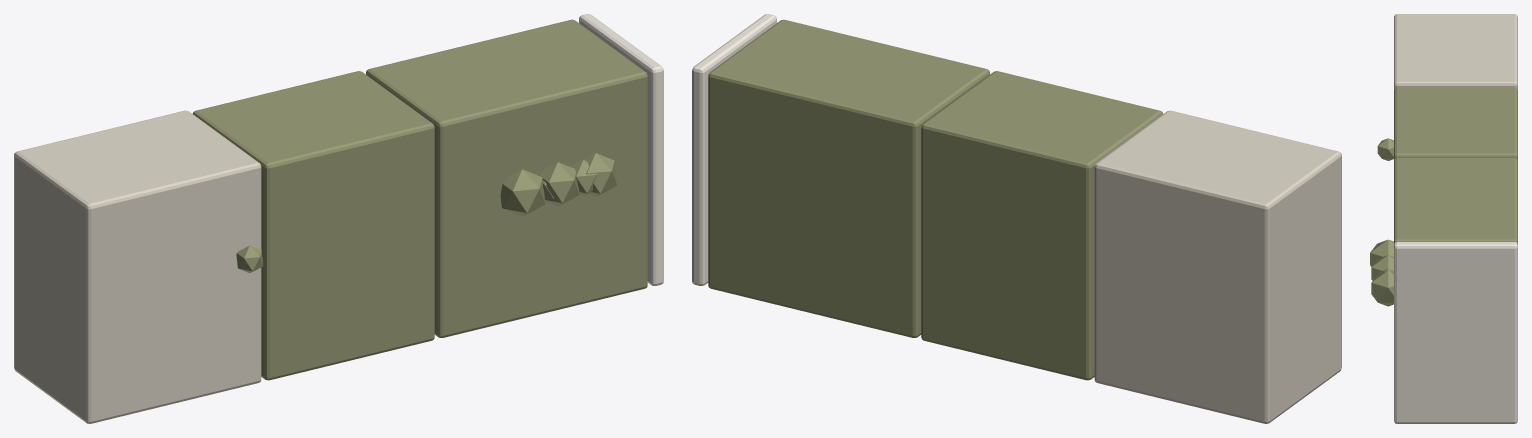
File: PondEdge.fbx
3 views of the same model, side by side, from view 1: azimuth 30°, elevation 25°; view 2: azimuth 150°, elevation 25°; view 3: azimuth 270°, elevation 25° (orthographic). The views are drawn at different scales.
Parts seen in each view (by area): view 1: PondEdge; view 2: PondEdge; view 3: PondEdge.
Boxes of the visible parts, <box> form: PondEdge: <box>14,14,663,423</box>; PondEdge: <box>692,14,1341,423</box>; PondEdge: <box>1370,14,1517,423</box>.
Size of the model in its own units: 1.99 by 0.7237 by 0.5363.
